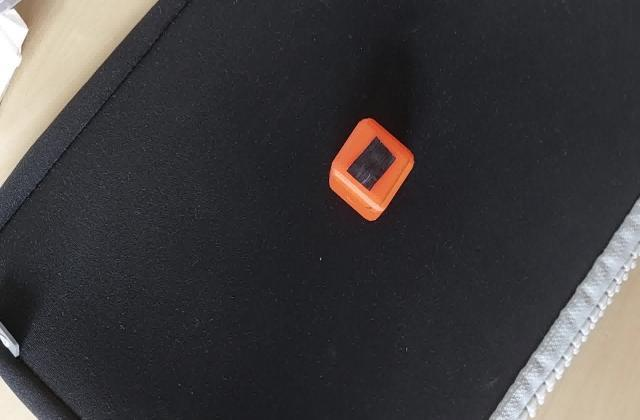black: (338, 136, 401, 193)
sticker: (326, 116, 416, 224)
